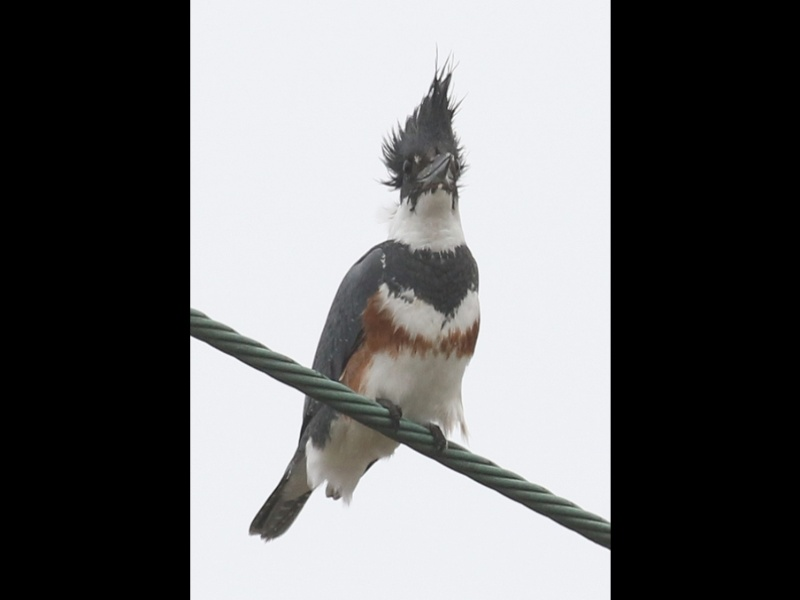kingfisher: (244, 55, 479, 558)
